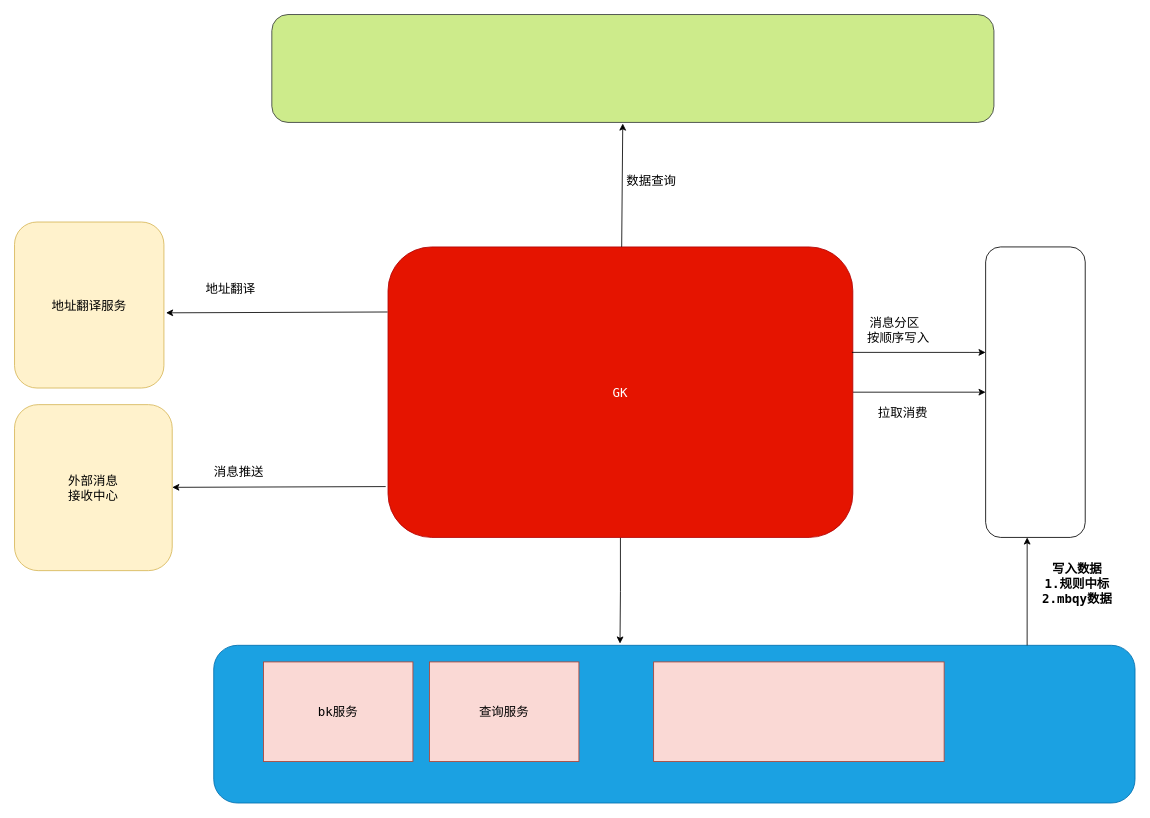
The diagram is 1150 pixels wide and 818 high, and some of its shapes have lost their labels. Here are the shapes that lost their labels. From the top down, the centre of each, then its label:
At [632,68]: "matrixgate".
At [1035,391]: "KAFKA".
At [798,711]: "规则引擎".
